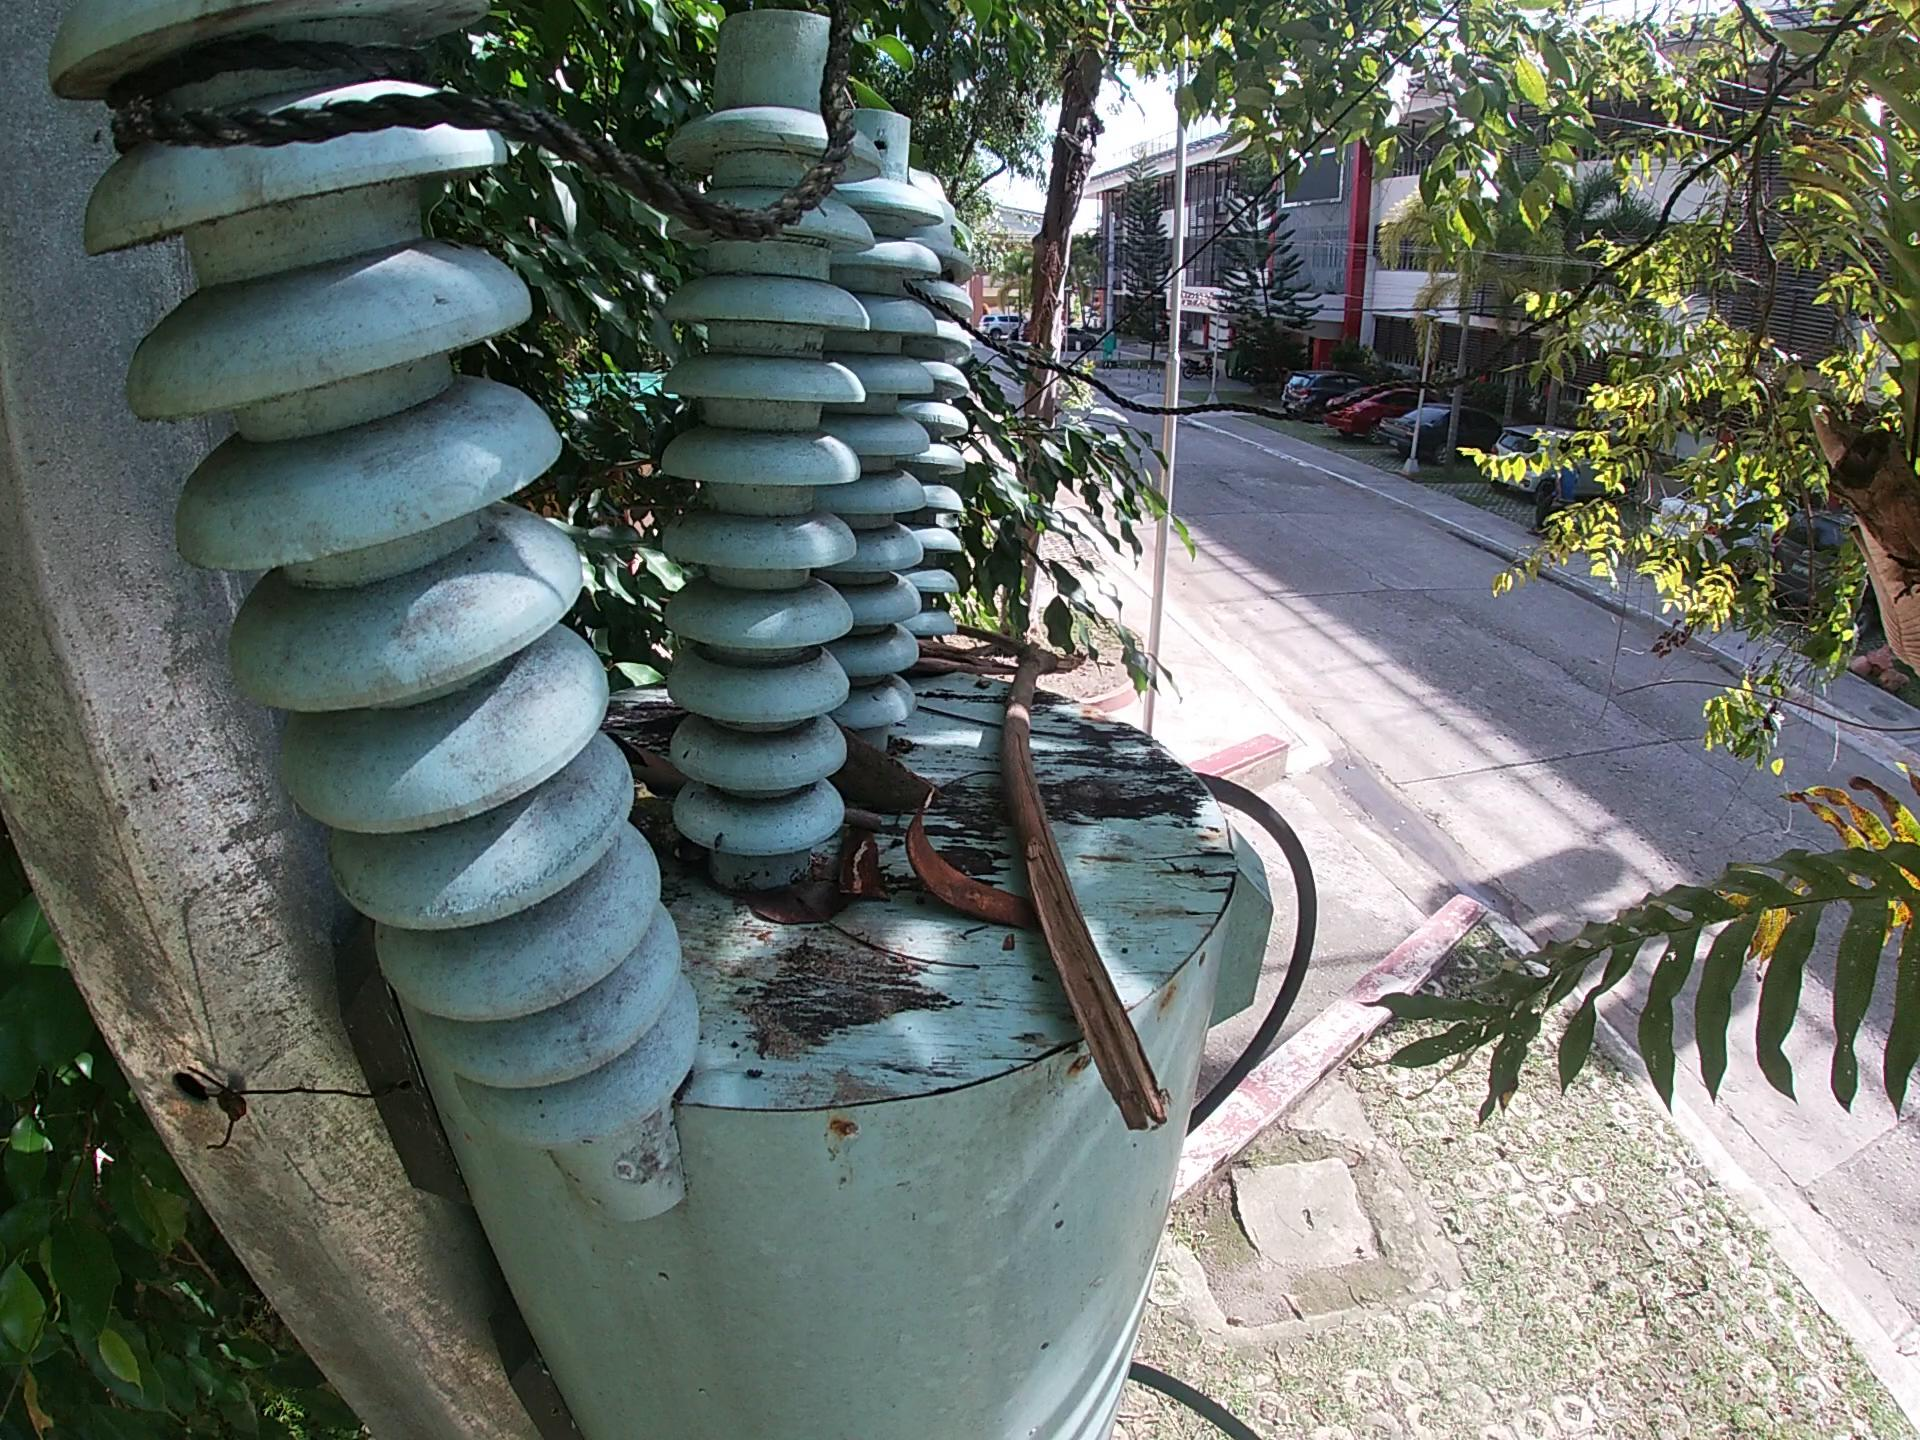leaf: (735, 870, 848, 941)
mahogany fruit: (898, 787, 1043, 933), (825, 722, 952, 818), (831, 821, 887, 908)
tree branch: (946, 619, 1175, 1141), (626, 791, 708, 867), (906, 634, 1027, 678), (847, 808, 893, 830)
